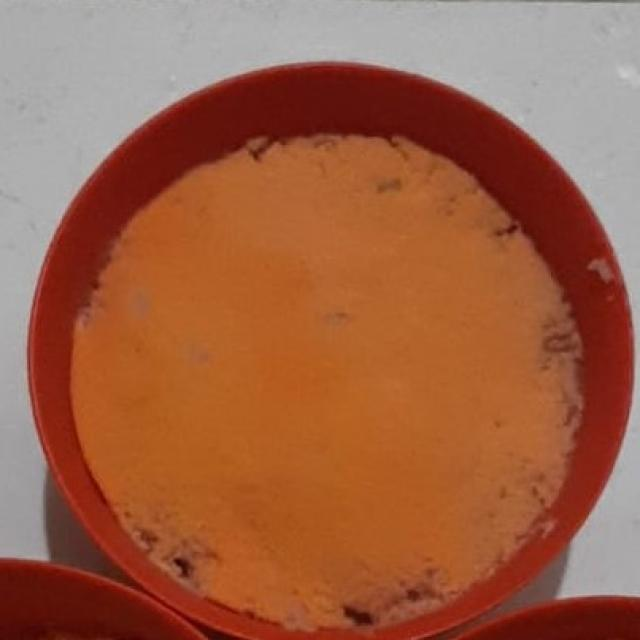organik: (113, 265, 547, 504)
